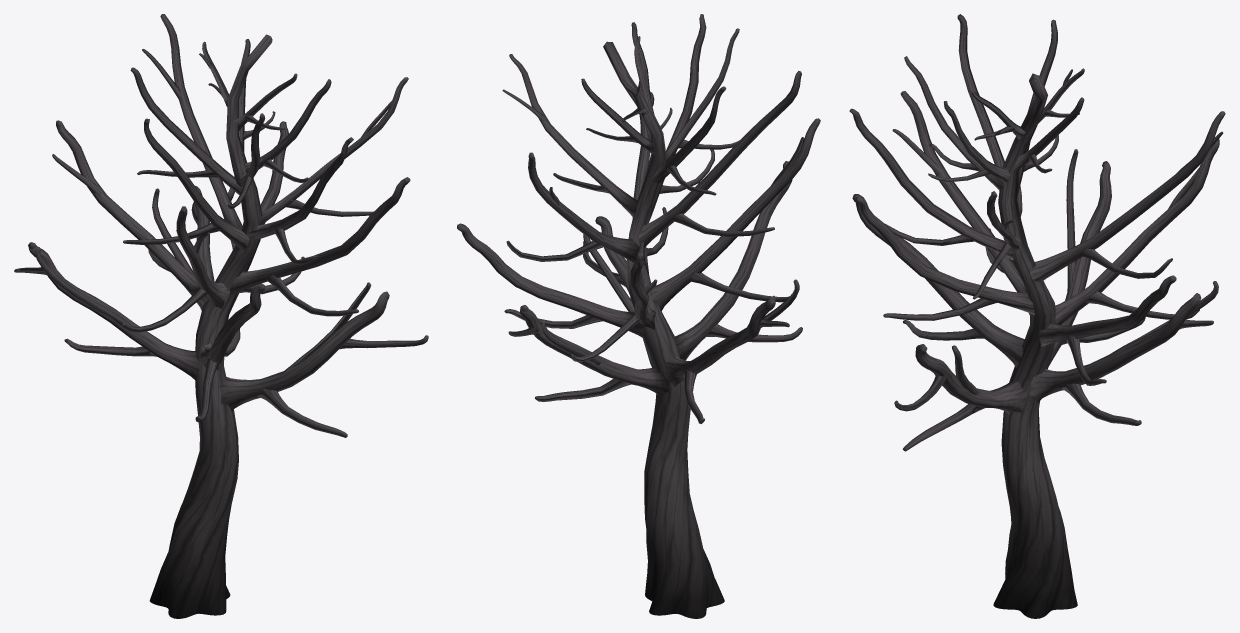
Rendered from Nature_DeadTree_1.glb.
The picture shows the model from 3 angles, left to right: view 1: azimuth 30°, elevation 25°; view 2: azimuth 150°, elevation 25°; view 3: azimuth 270°, elevation 25°; orthographic projection. The views are drawn at different scales.
Visible parts, largest first — view 1: DeadTree_1; view 2: DeadTree_1; view 3: DeadTree_1.
Boxes of the visible parts, x1,y1,x2,y2 form: DeadTree_1: (14,14,428,618); DeadTree_1: (457,14,820,618); DeadTree_1: (849,14,1225,618).
Bounding box in the file's own units: 6.15 × 9.5 × 5.75.
Materials: 1 (1 with a texture image).
